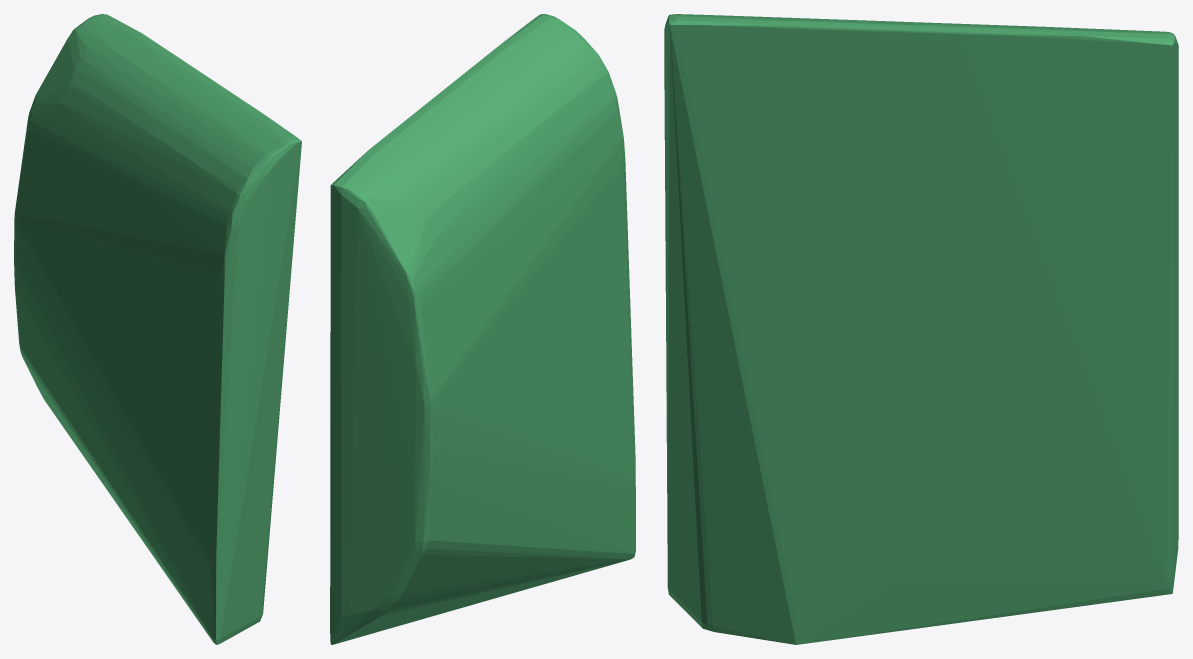
File: left-shoulder-yaw-0_part_3.obj
The picture shows the model from 3 angles, left to right: view 1: azimuth 30°, elevation 25°; view 2: azimuth 150°, elevation 25°; view 3: azimuth 270°, elevation 25°; orthographic projection. The views are drawn at different scales.
Bounding box in the file's own units: 0.0154 × 0.076 × 0.0567.
